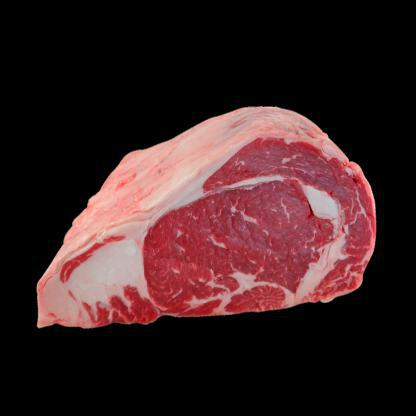beef: (47, 95, 374, 328)
